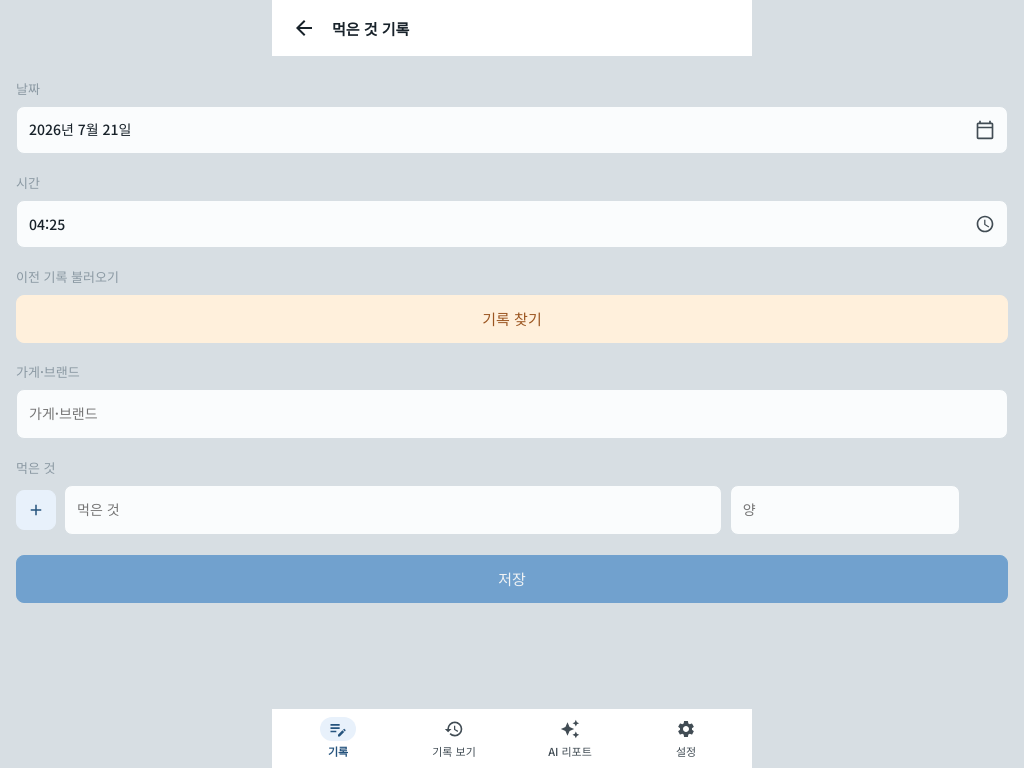
FoodPageClient › confirms before replacing an existing food input with a recommendation
Type "커피" into the field named "먹은 것 이름" at [393, 510], box [65, 486, 721, 534]
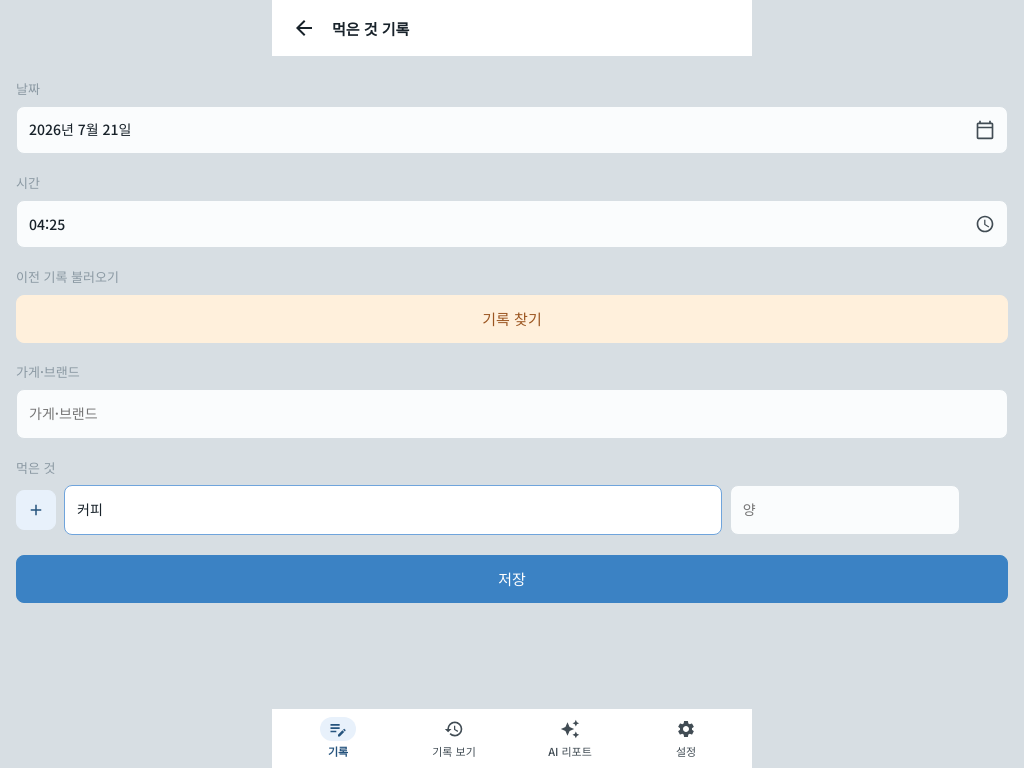
Click the button "기록 찾기" at [512, 319], box [16, 295, 1008, 343]
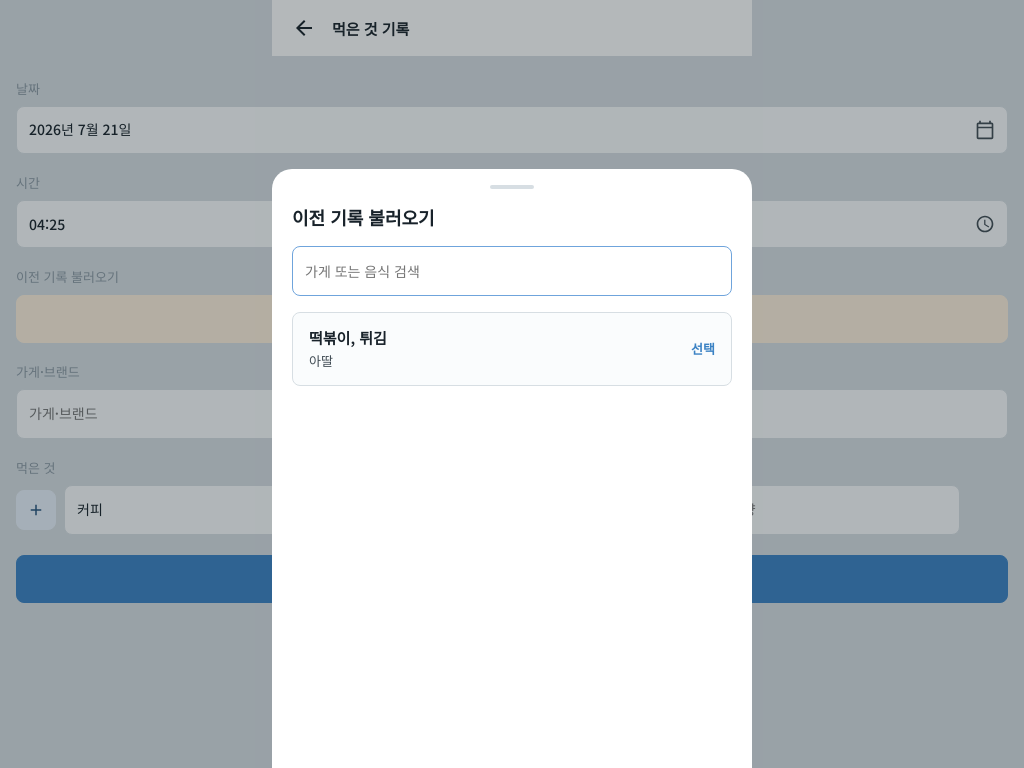
Click the button "떡볶이, 튀김 아딸 선택" at [348, 338], box [292, 312, 732, 386]
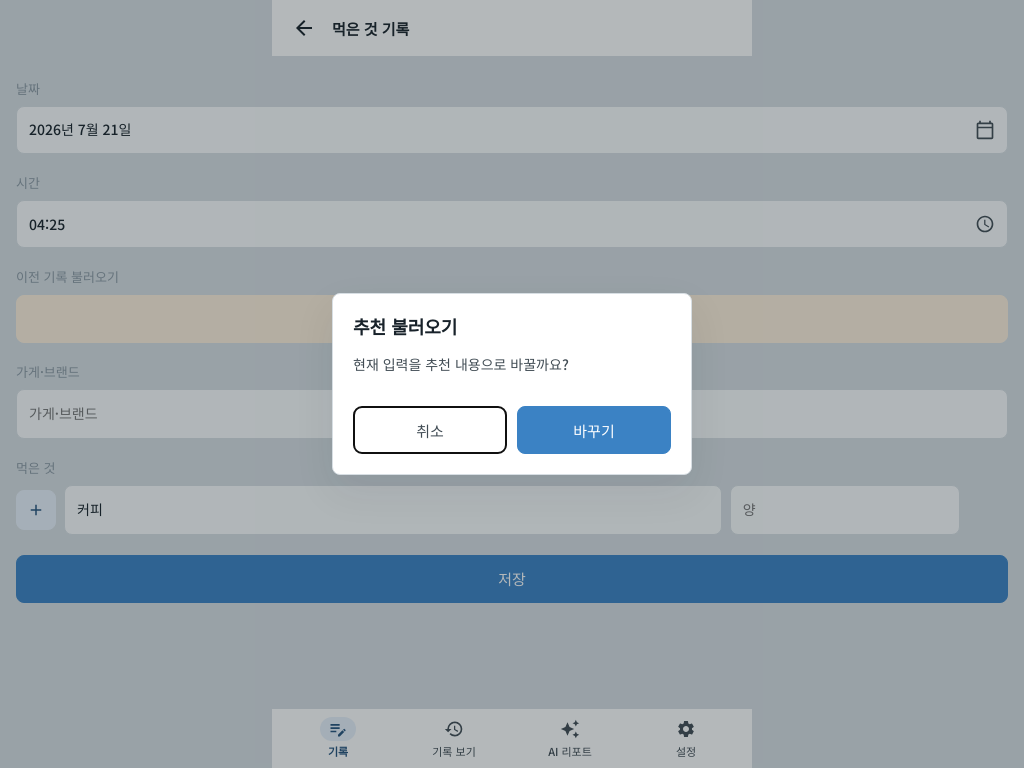
Expected: the dialog "추천 불러오기" shows "현재 입력을 추천 내용으로 바꿀까요?", [353, 354, 569, 374]
Click the button "바꾸기" at [594, 430], box [517, 406, 671, 454]
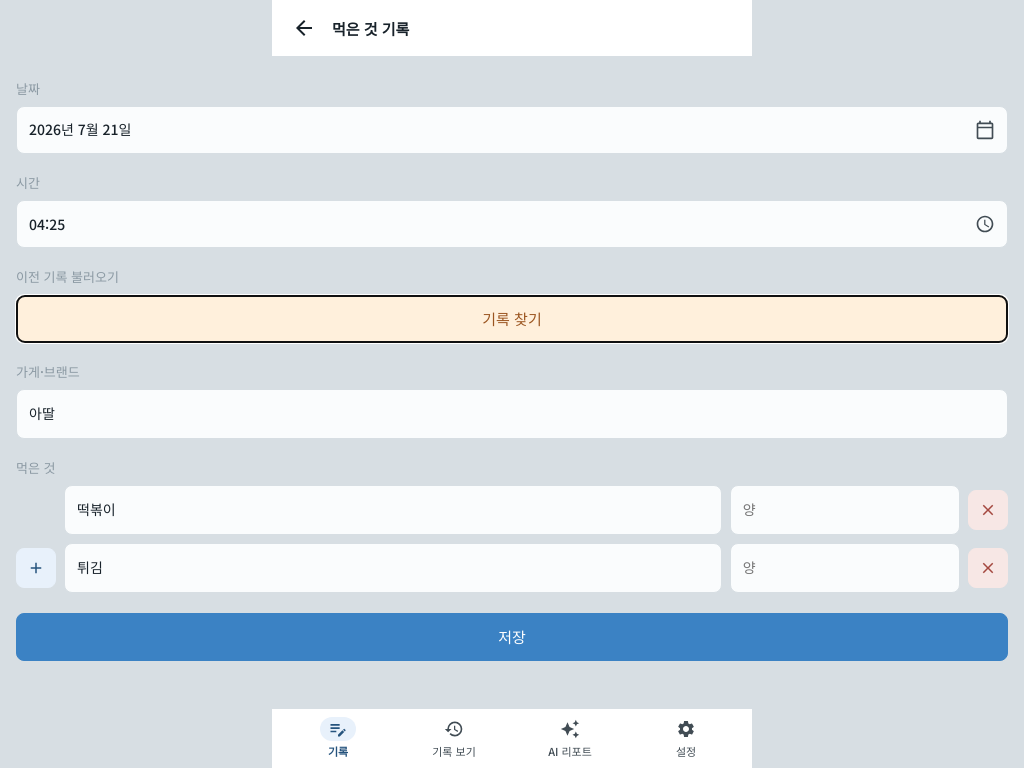
Expected: the field showing "아딸" is shown, [17, 390, 1007, 438]
Expected: the 1st field showing "떡볶이" is shown, [65, 486, 721, 534]
Expected: the 2nd field showing "튀김" is shown, [65, 544, 721, 592]
